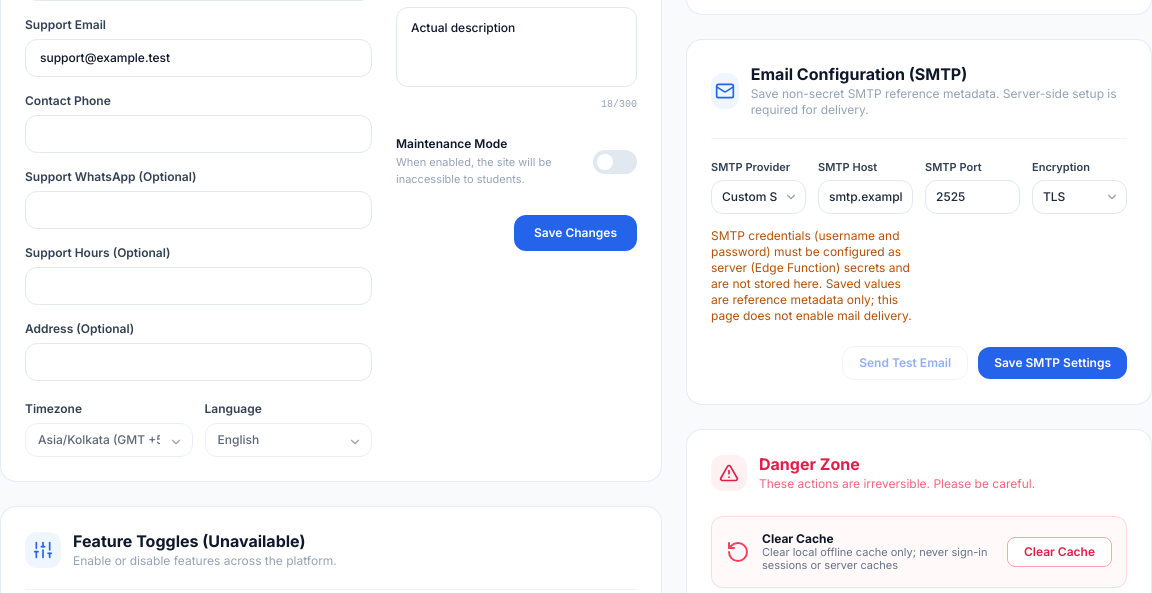
Test case: Truthful Settings workflows › reports structured save failure as an accessible error rather than a success badge
(page scrolled)
Click the button "Save Changes": (575, 233) [514, 215, 637, 251]
(page scrolled)
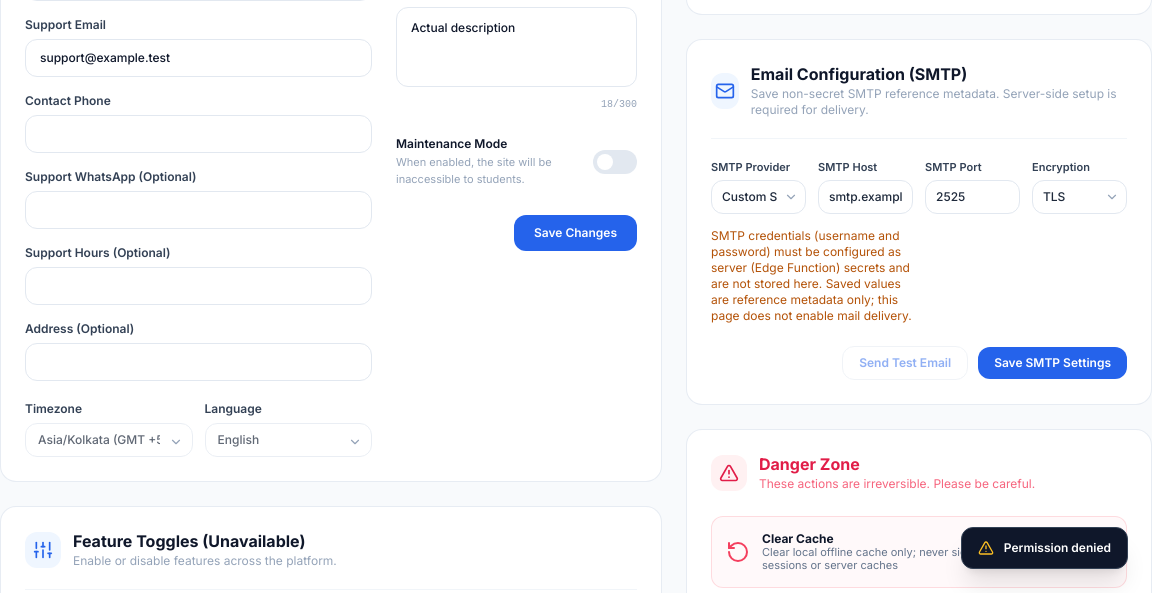
Expected: the message reads "Permission denied", [1004, 540, 1111, 555]
